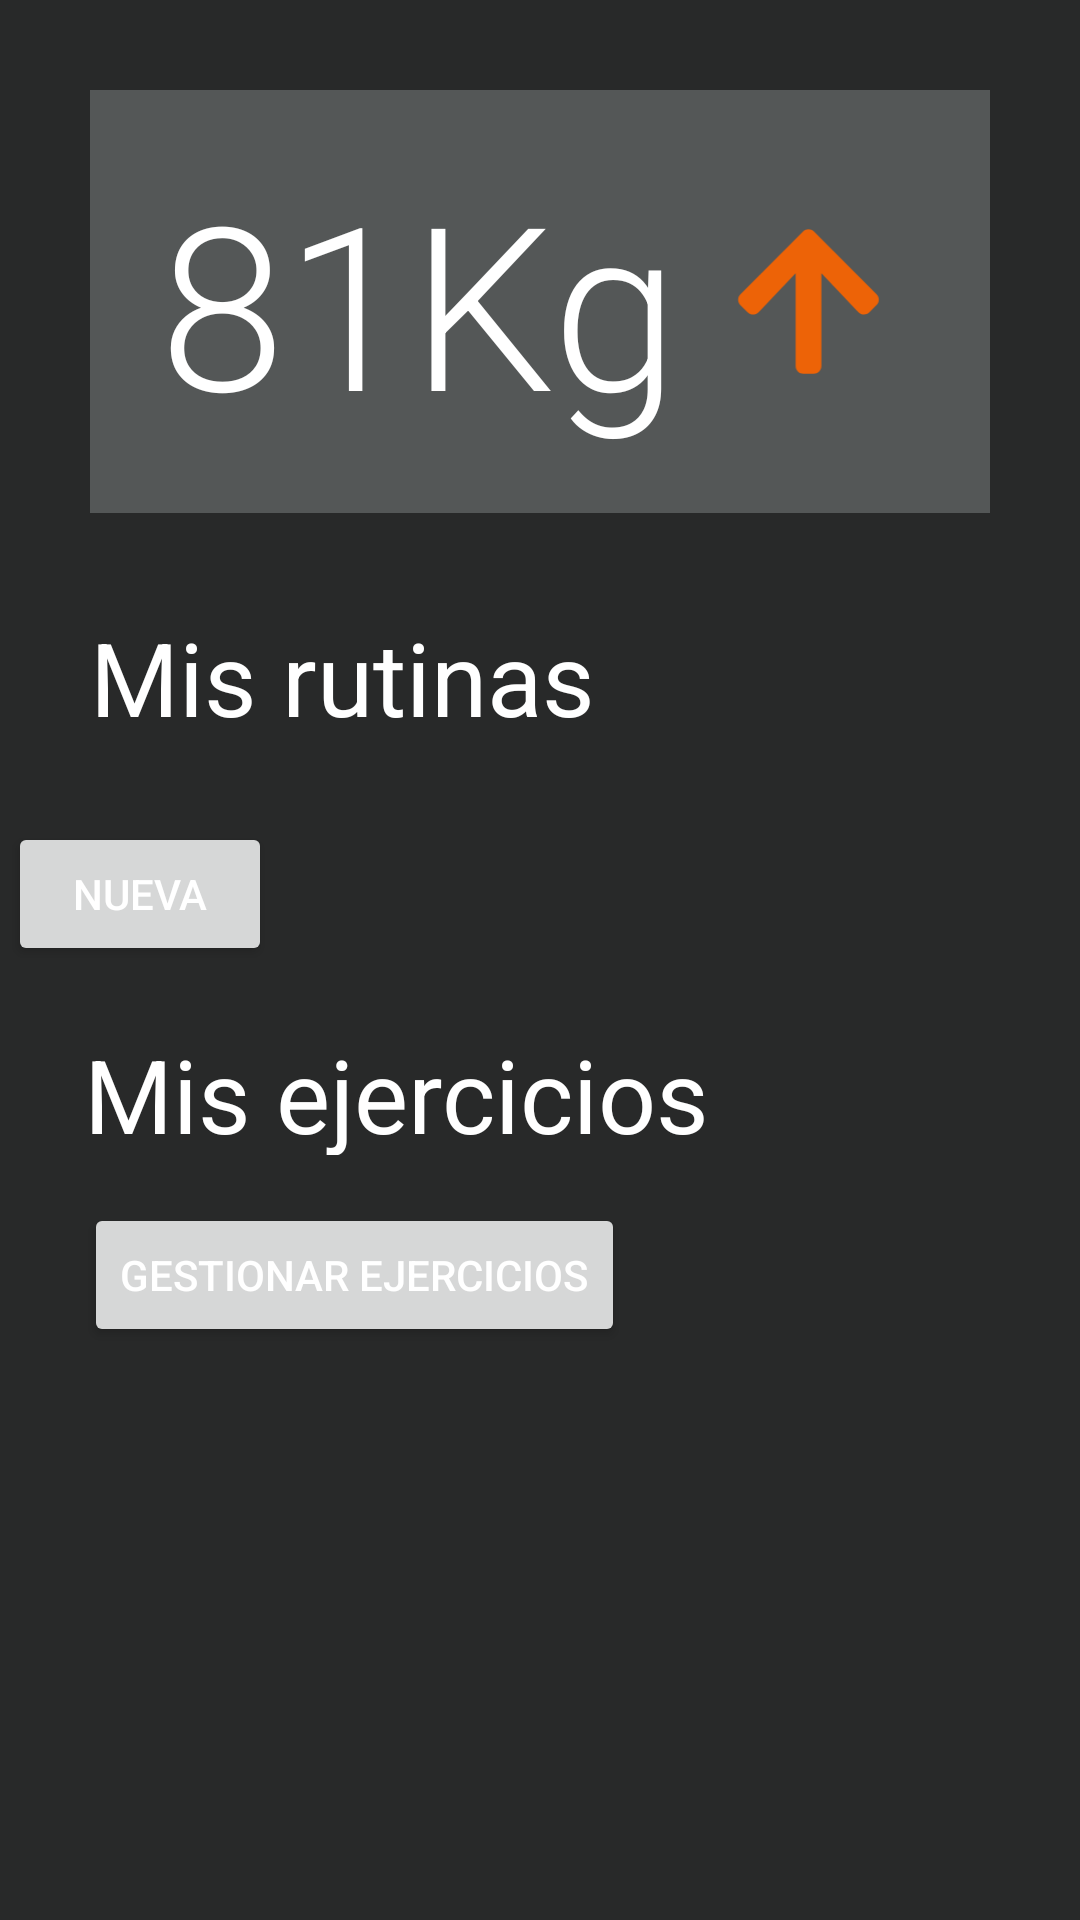

Screen size 1080w x 1920h. Icon name, then its center in pixels as (x=x, y=y):
arrow up: (x=808, y=301)
